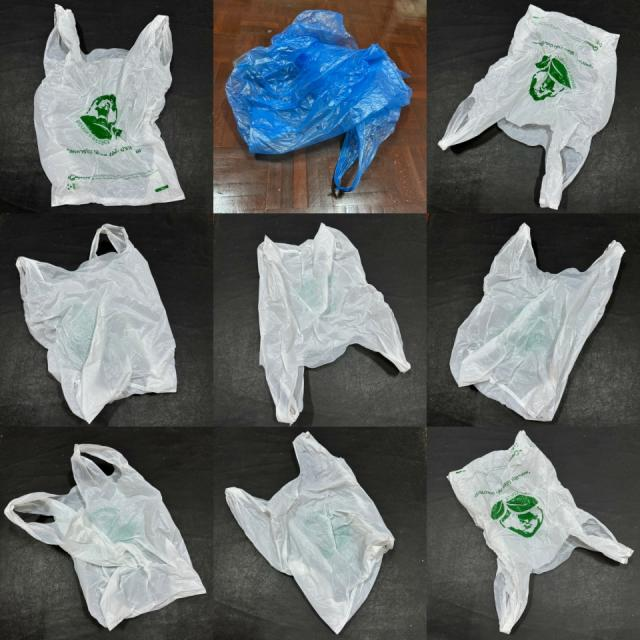Single-layer Plastic: (5, 444, 206, 629), (448, 431, 632, 633), (439, 5, 619, 208), (450, 224, 625, 421), (225, 432, 394, 633), (226, 10, 411, 191), (16, 224, 176, 422), (258, 224, 410, 423), (34, 5, 184, 206)
